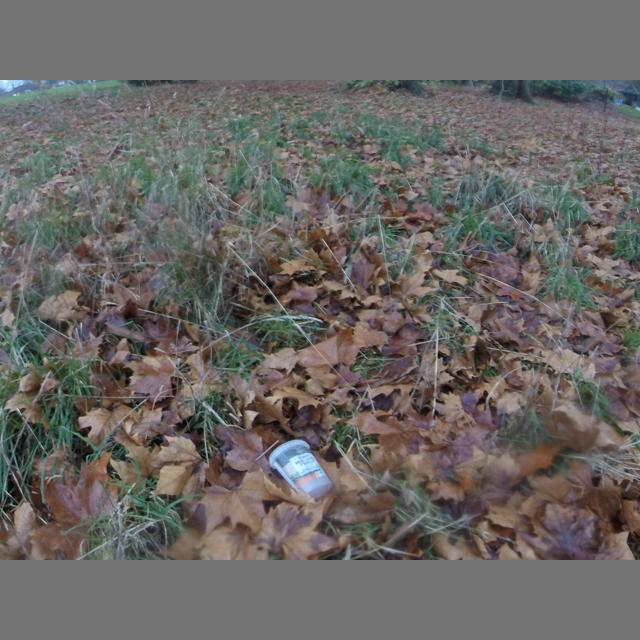litter: (269, 439, 333, 499)
